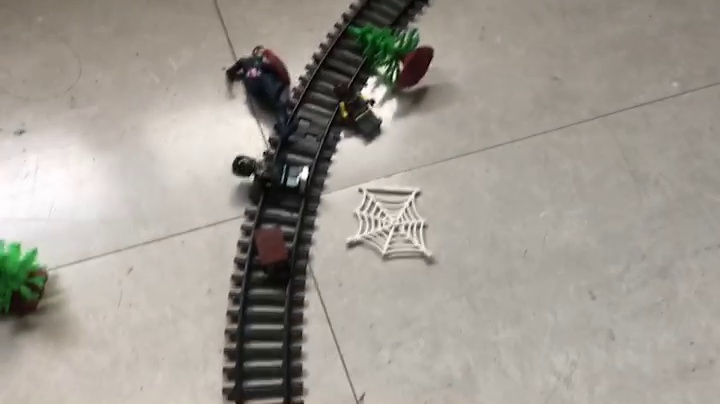box: (251, 226, 292, 276)
people: (225, 45, 301, 144), (231, 151, 313, 197), (329, 86, 385, 141)
tree: (345, 21, 437, 92), (1, 238, 48, 322)
web: (345, 183, 436, 268)
